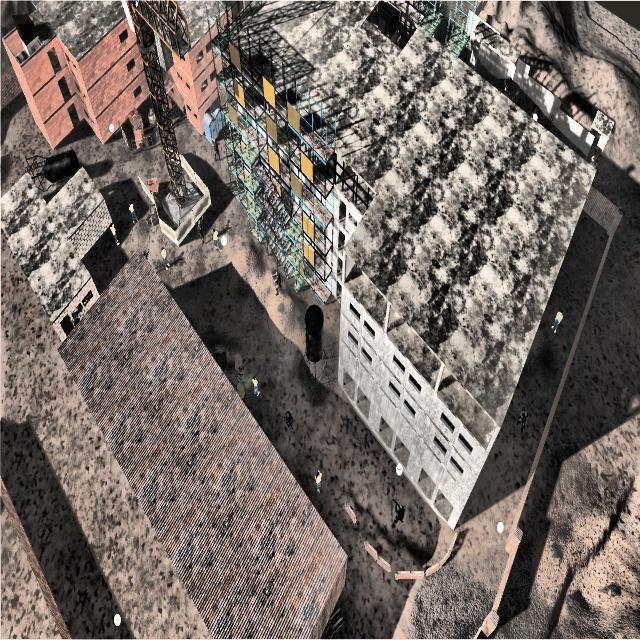bad: (389, 488, 410, 540), (514, 399, 533, 442), (269, 262, 285, 304), (193, 209, 208, 252), (280, 400, 296, 439), (210, 133, 223, 165), (142, 247, 152, 261)
good: (549, 300, 565, 340), (106, 215, 122, 254), (124, 196, 140, 231), (157, 244, 172, 279), (310, 460, 324, 497), (249, 371, 263, 406), (211, 223, 222, 257)
